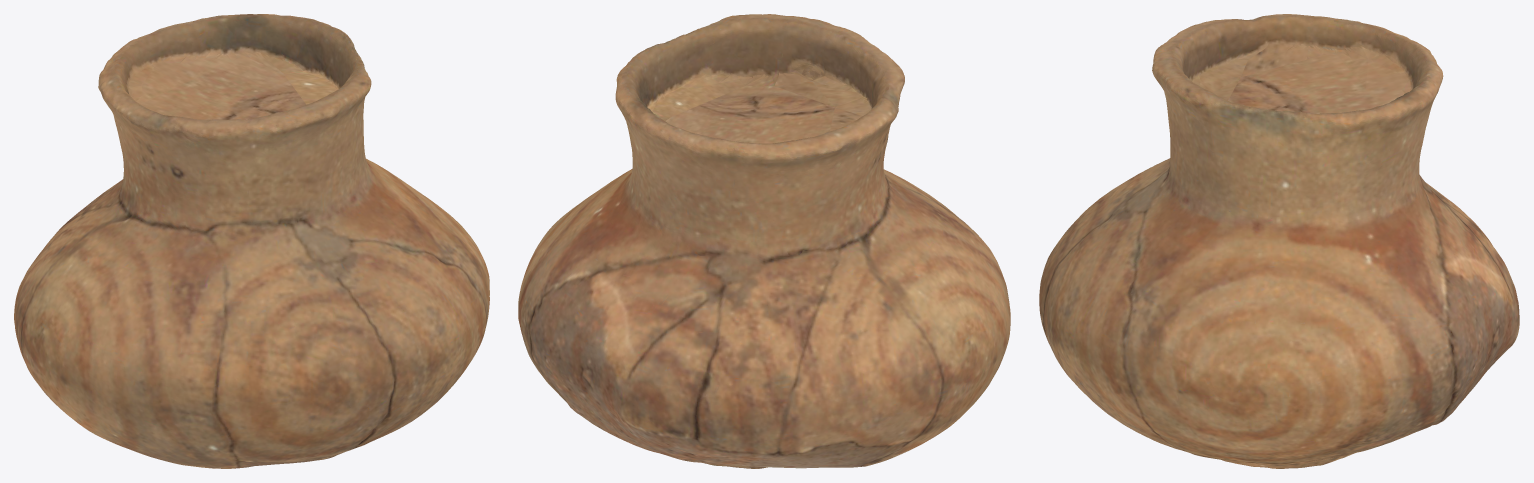
Rendered from Ark_HM_209_HI.glb.
3 views of the same model, side by side, from view 1: azimuth 30°, elevation 25°; view 2: azimuth 150°, elevation 25°; view 3: azimuth 270°, elevation 25° (orthographic). The views are drawn at different scales.
Size of the model in its own units: 0.4987 by 0.4097 by 0.485.
1 material, 1 textured.
